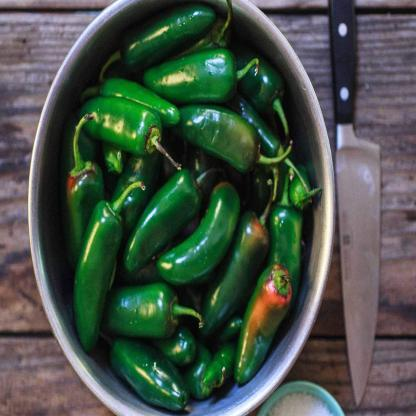--: (69, 184, 144, 348), (127, 156, 223, 269), (172, 104, 294, 178), (76, 93, 182, 178), (142, 48, 258, 100)
